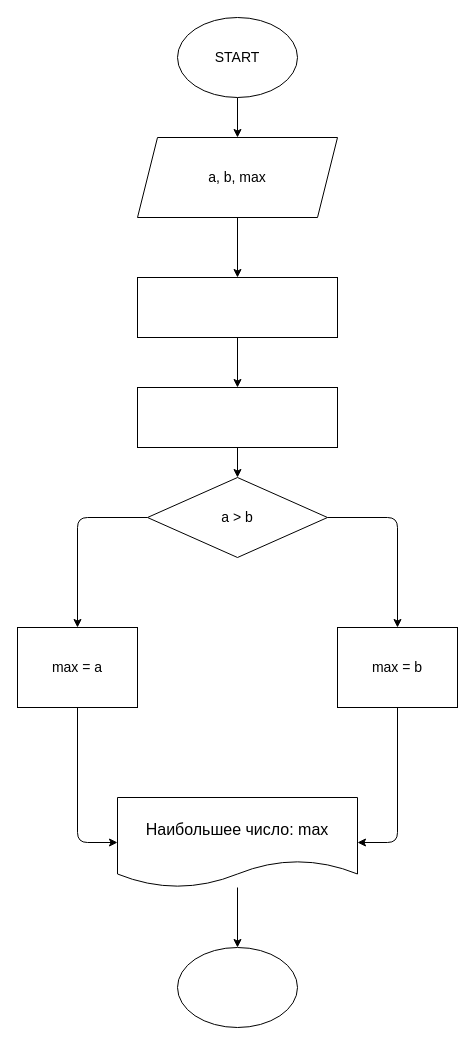
The diagram is 475 pixels wide and 1045 high, and some of its shapes have lost their labels. The centre of each missing label's shape, as x and y in pixels:
"END" goes at (x=237, y=987).
"Введите число a" goes at (x=237, y=307).
"Введите число b" goes at (x=237, y=417).
